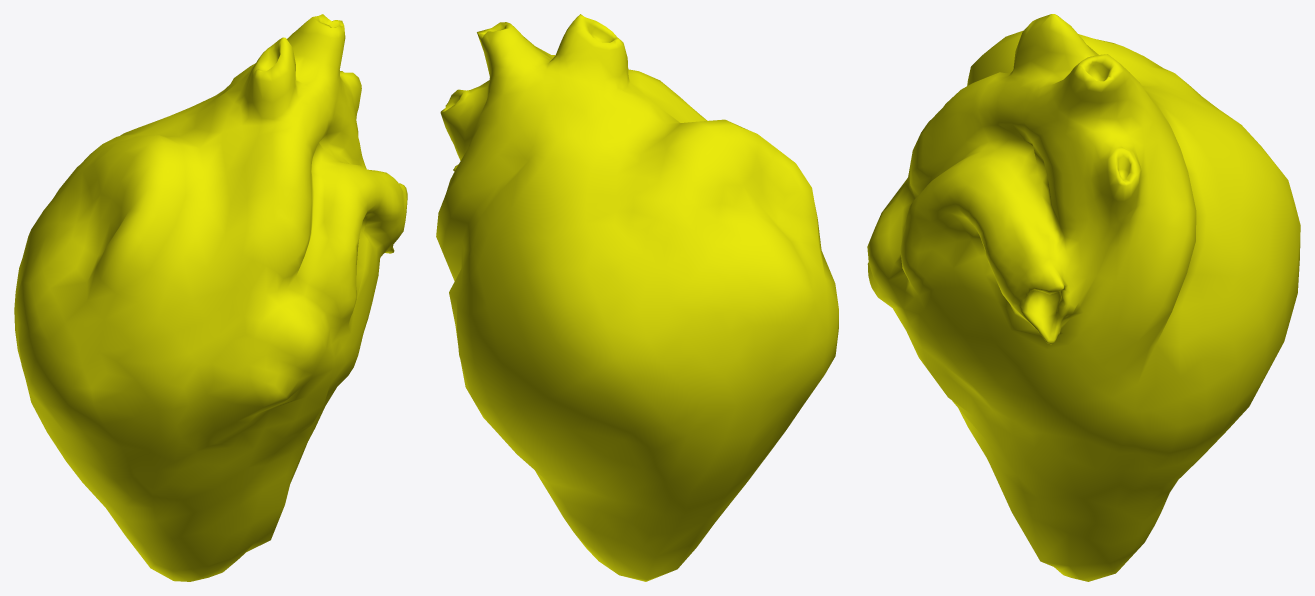
File: Heart.glb
3 views of the same model, side by side, from view 1: azimuth 30°, elevation 25°; view 2: azimuth 150°, elevation 25°; view 3: azimuth 270°, elevation 25° (orthographic). The views are drawn at different scales.
Visible parts, largest first — view 1: Heart; view 2: Heart; view 3: Heart.
Boxes of the visible parts, <box> form: Heart: <box>14,14,407,581</box>; Heart: <box>436,14,838,581</box>; Heart: <box>867,14,1300,581</box>.
Bounding box in the file's own units: 0.1479 × 0.2028 × 0.1316.
Materials: 1 (1 with a texture image).
